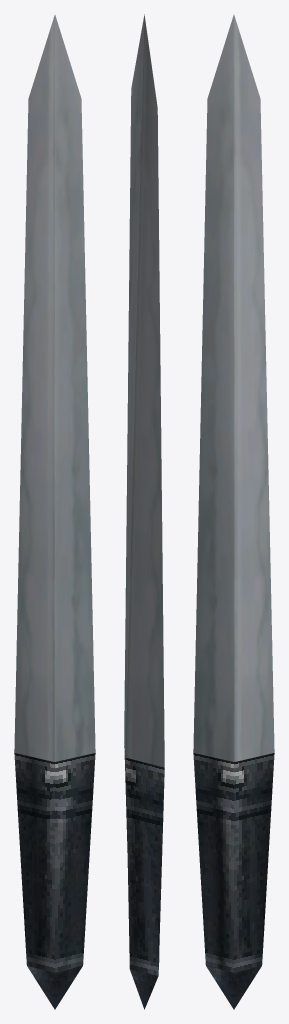
The model's file is wp_mle_sword_s01_l1.fbx.
3 renders of one model, left to right at view 1: azimuth 90°, elevation 25°; view 2: azimuth 210°, elevation 25°; view 3: azimuth 270°, elevation 25°, orthographic.
Visible parts, largest first — view 1: mesh_node; view 2: mesh_node; view 3: mesh_node.
Boxes of the visible parts, bbox=[...] form: mesh_node: bbox=[14, 15, 95, 1009]; mesh_node: bbox=[124, 14, 164, 1009]; mesh_node: bbox=[193, 15, 274, 1009].
Bounding box in the file's own units: 0.0321 × 0.8037 × 0.0594.
